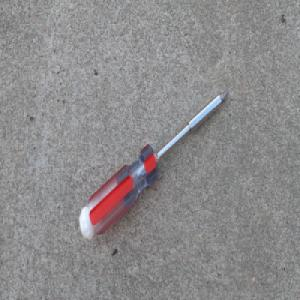Screwdriver: (78, 88, 229, 242)
